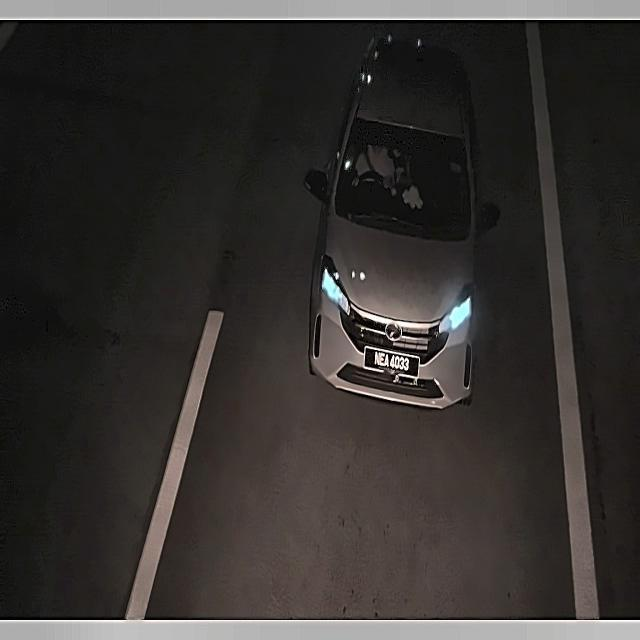car: (363, 344, 423, 381)
